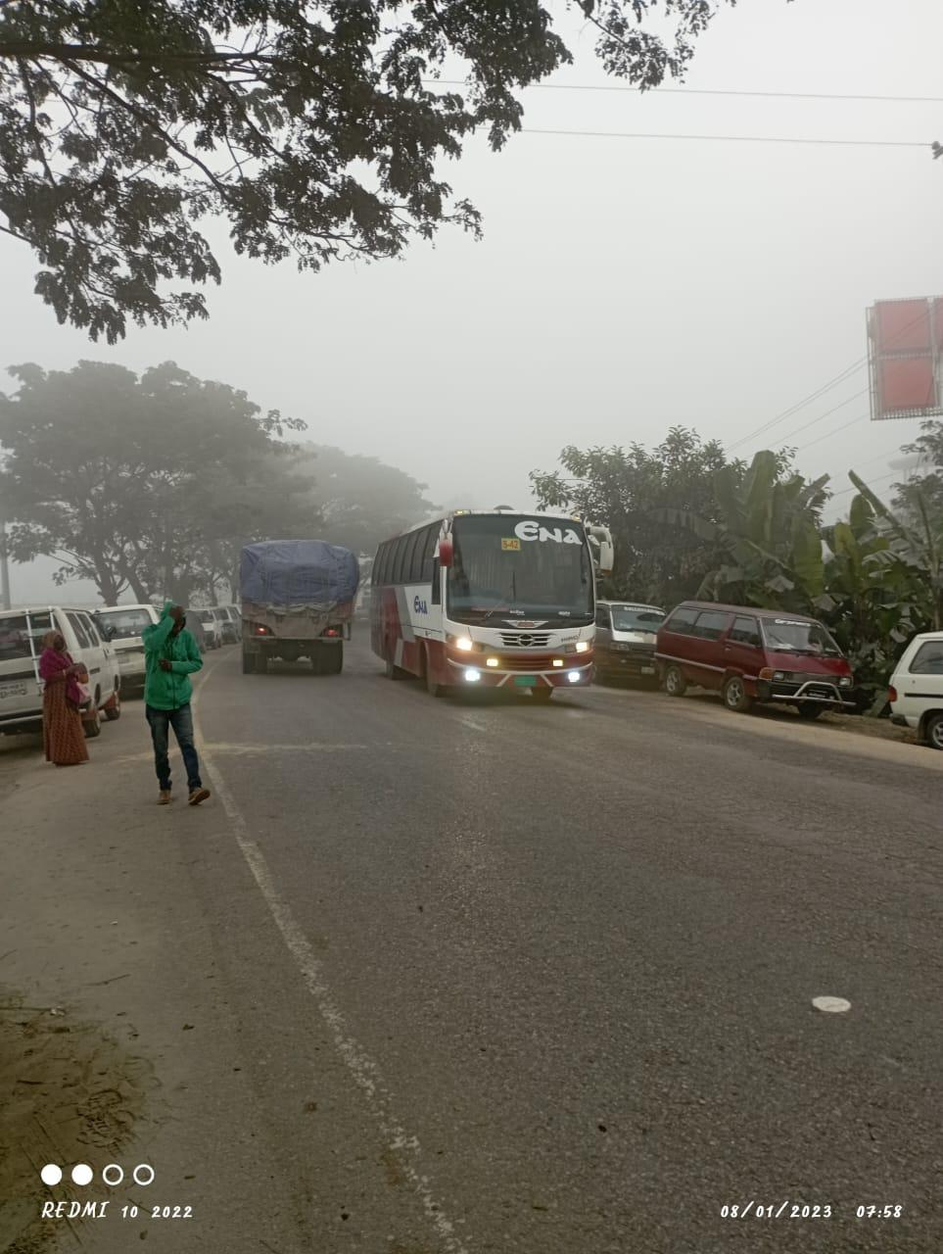Bus: (361, 498, 611, 690)
Car: (655, 595, 860, 736), (6, 591, 130, 734)
Truck: (235, 534, 358, 677)
